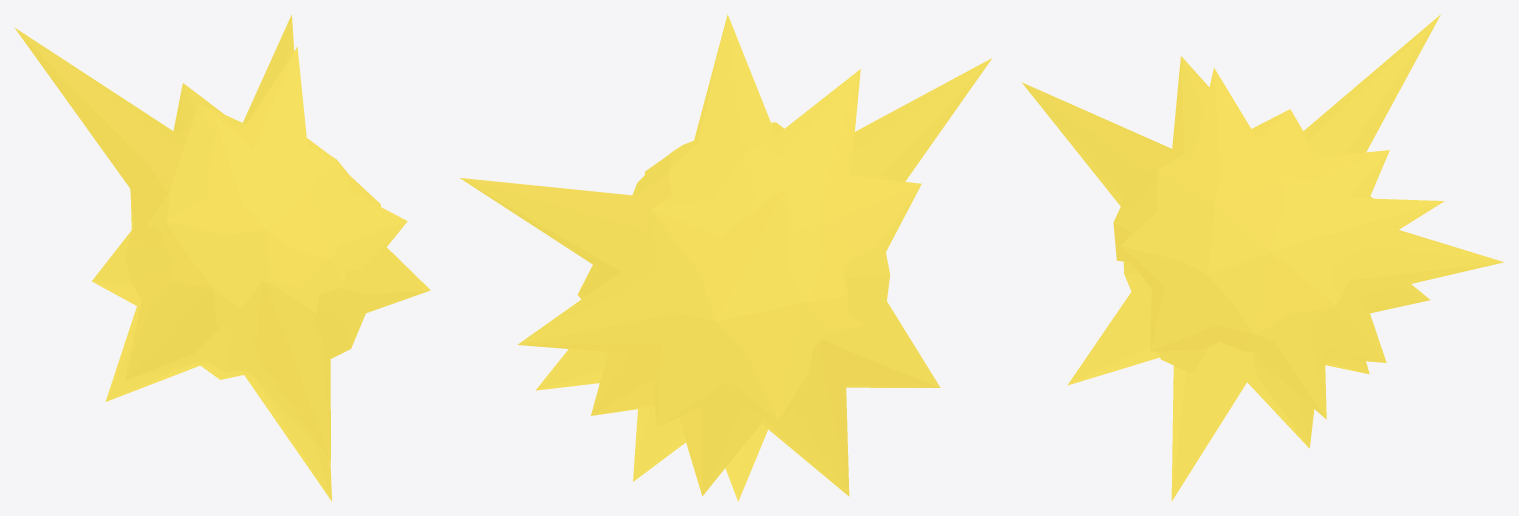
File: spark4.glb
3 renders of one model, left to right at view 1: azimuth 30°, elevation 25°; view 2: azimuth 150°, elevation 25°; view 3: azimuth 270°, elevation 25°, orthographic. The views are drawn at different scales.
Parts seen in each view (by area): view 1: Icosphere.002; view 2: Icosphere.002; view 3: Icosphere.002.
Boxes of the visible parts, x1=… form: Icosphere.002: x1=14, y1=14, x2=430, y2=501; Icosphere.002: x1=460, y1=14, x2=992, y2=501; Icosphere.002: x1=1021, y1=14, x2=1503, y2=501.
Size of the model in its own units: 2.88 by 4.17 by 4.26.
